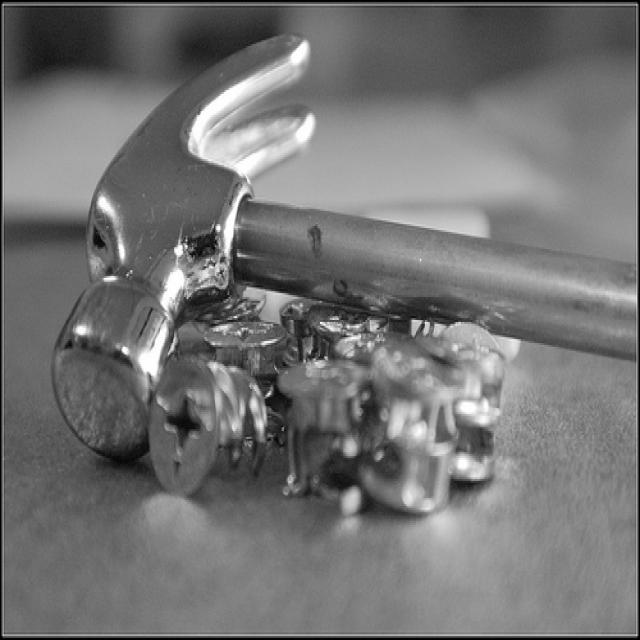hammer: (48, 10, 640, 492)
